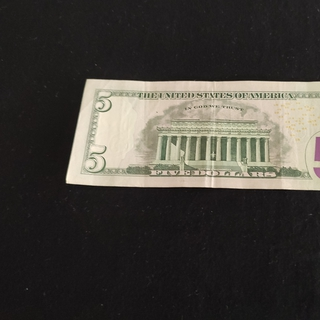5USDBack: (65, 77, 320, 193)
